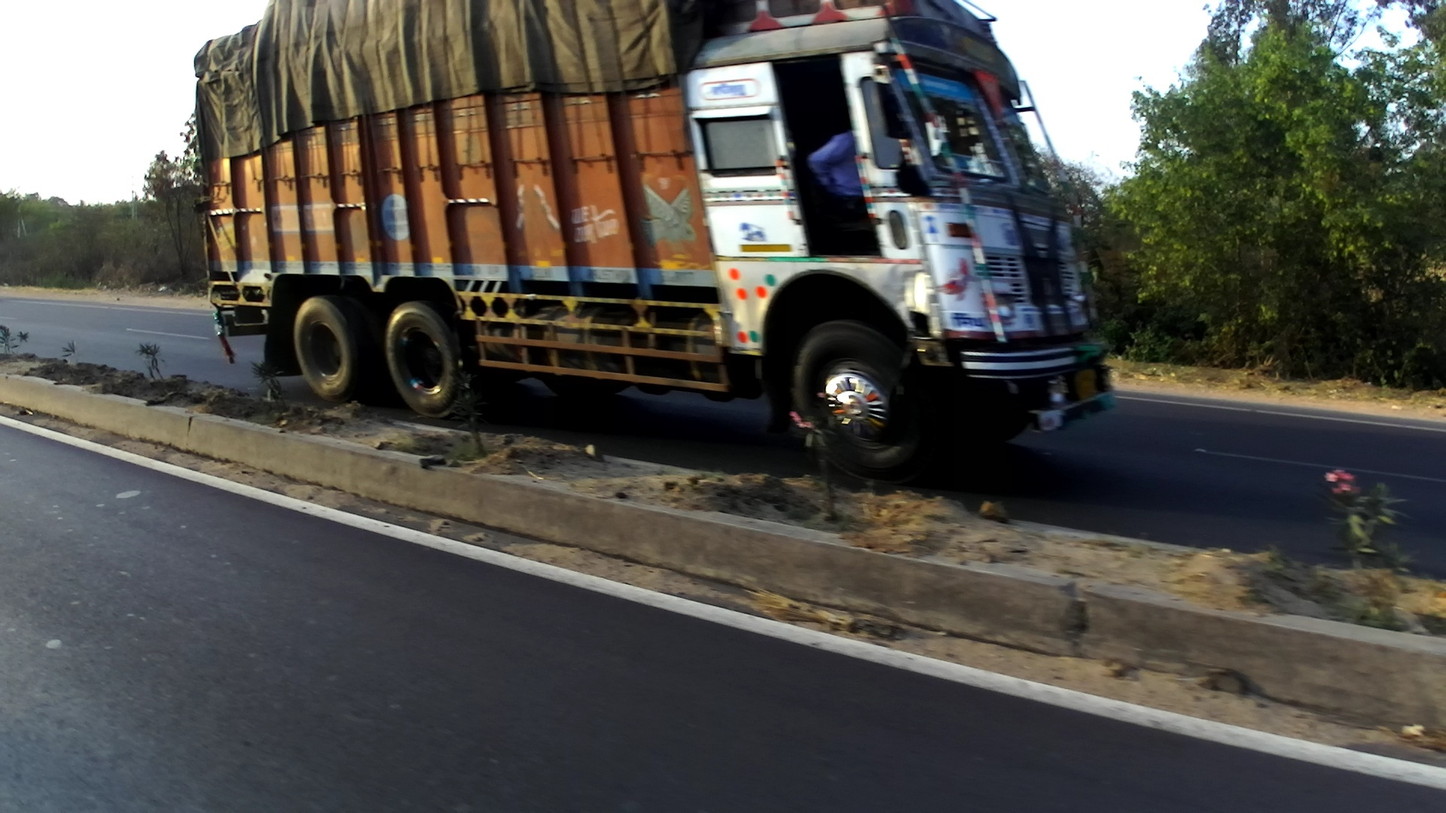truck: (191, 1, 1116, 488)
